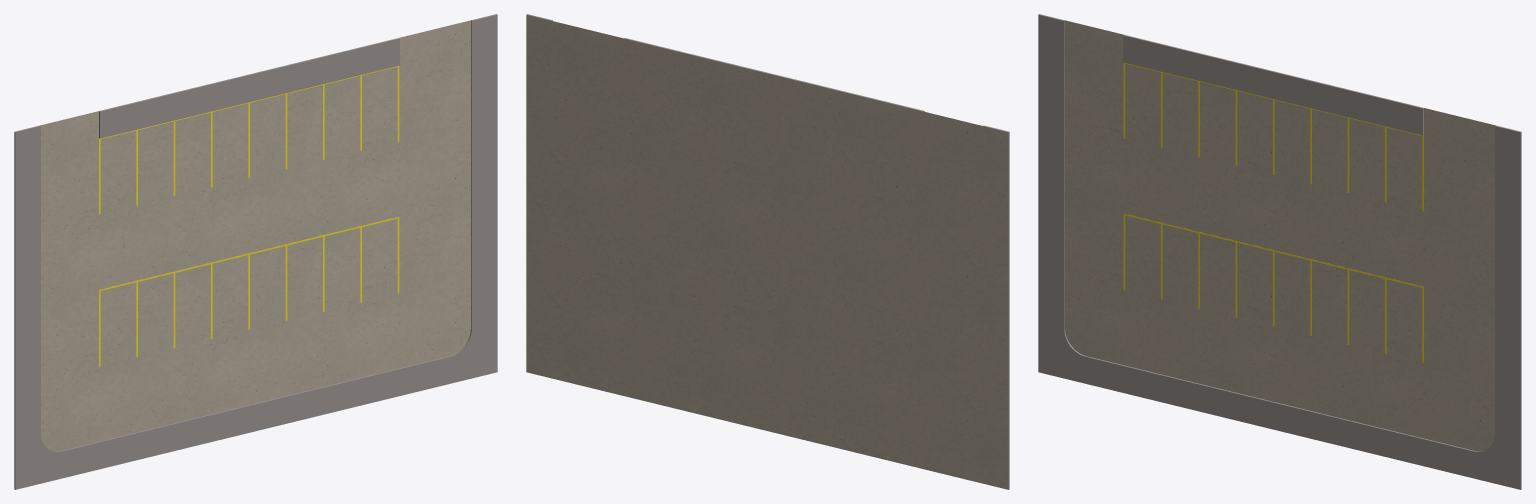
The model's file is estacionamiento.obj.
3 views of the same model, side by side, from view 1: azimuth 30°, elevation 25°; view 2: azimuth 150°, elevation 25°; view 3: azimuth 330°, elevation 25° (orthographic).
Visible parts, largest first — view 1: Root|Estacionamiento_(Predeterminado)|Predeterminado|Predetermin; view 2: Root|Estacionamiento_(Predeterminado)|Predeterminado|Predetermin; view 3: Root|Estacionamiento_(Predeterminado)|Predeterminado|Predetermin.
Boxes of the visible parts, <box> form: Root|Estacionamiento_(Predeterminado)|Predeterminado|Predetermin: <box>14,14,497,489</box>; Root|Estacionamiento_(Predeterminado)|Predeterminado|Predetermin: <box>526,14,1009,489</box>; Root|Estacionamiento_(Predeterminado)|Predeterminado|Predetermin: <box>1038,14,1521,489</box>.
Bounding box in the file's own units: 33.6 × 23.8 × 0.11.
3 materials, 1 textured.
